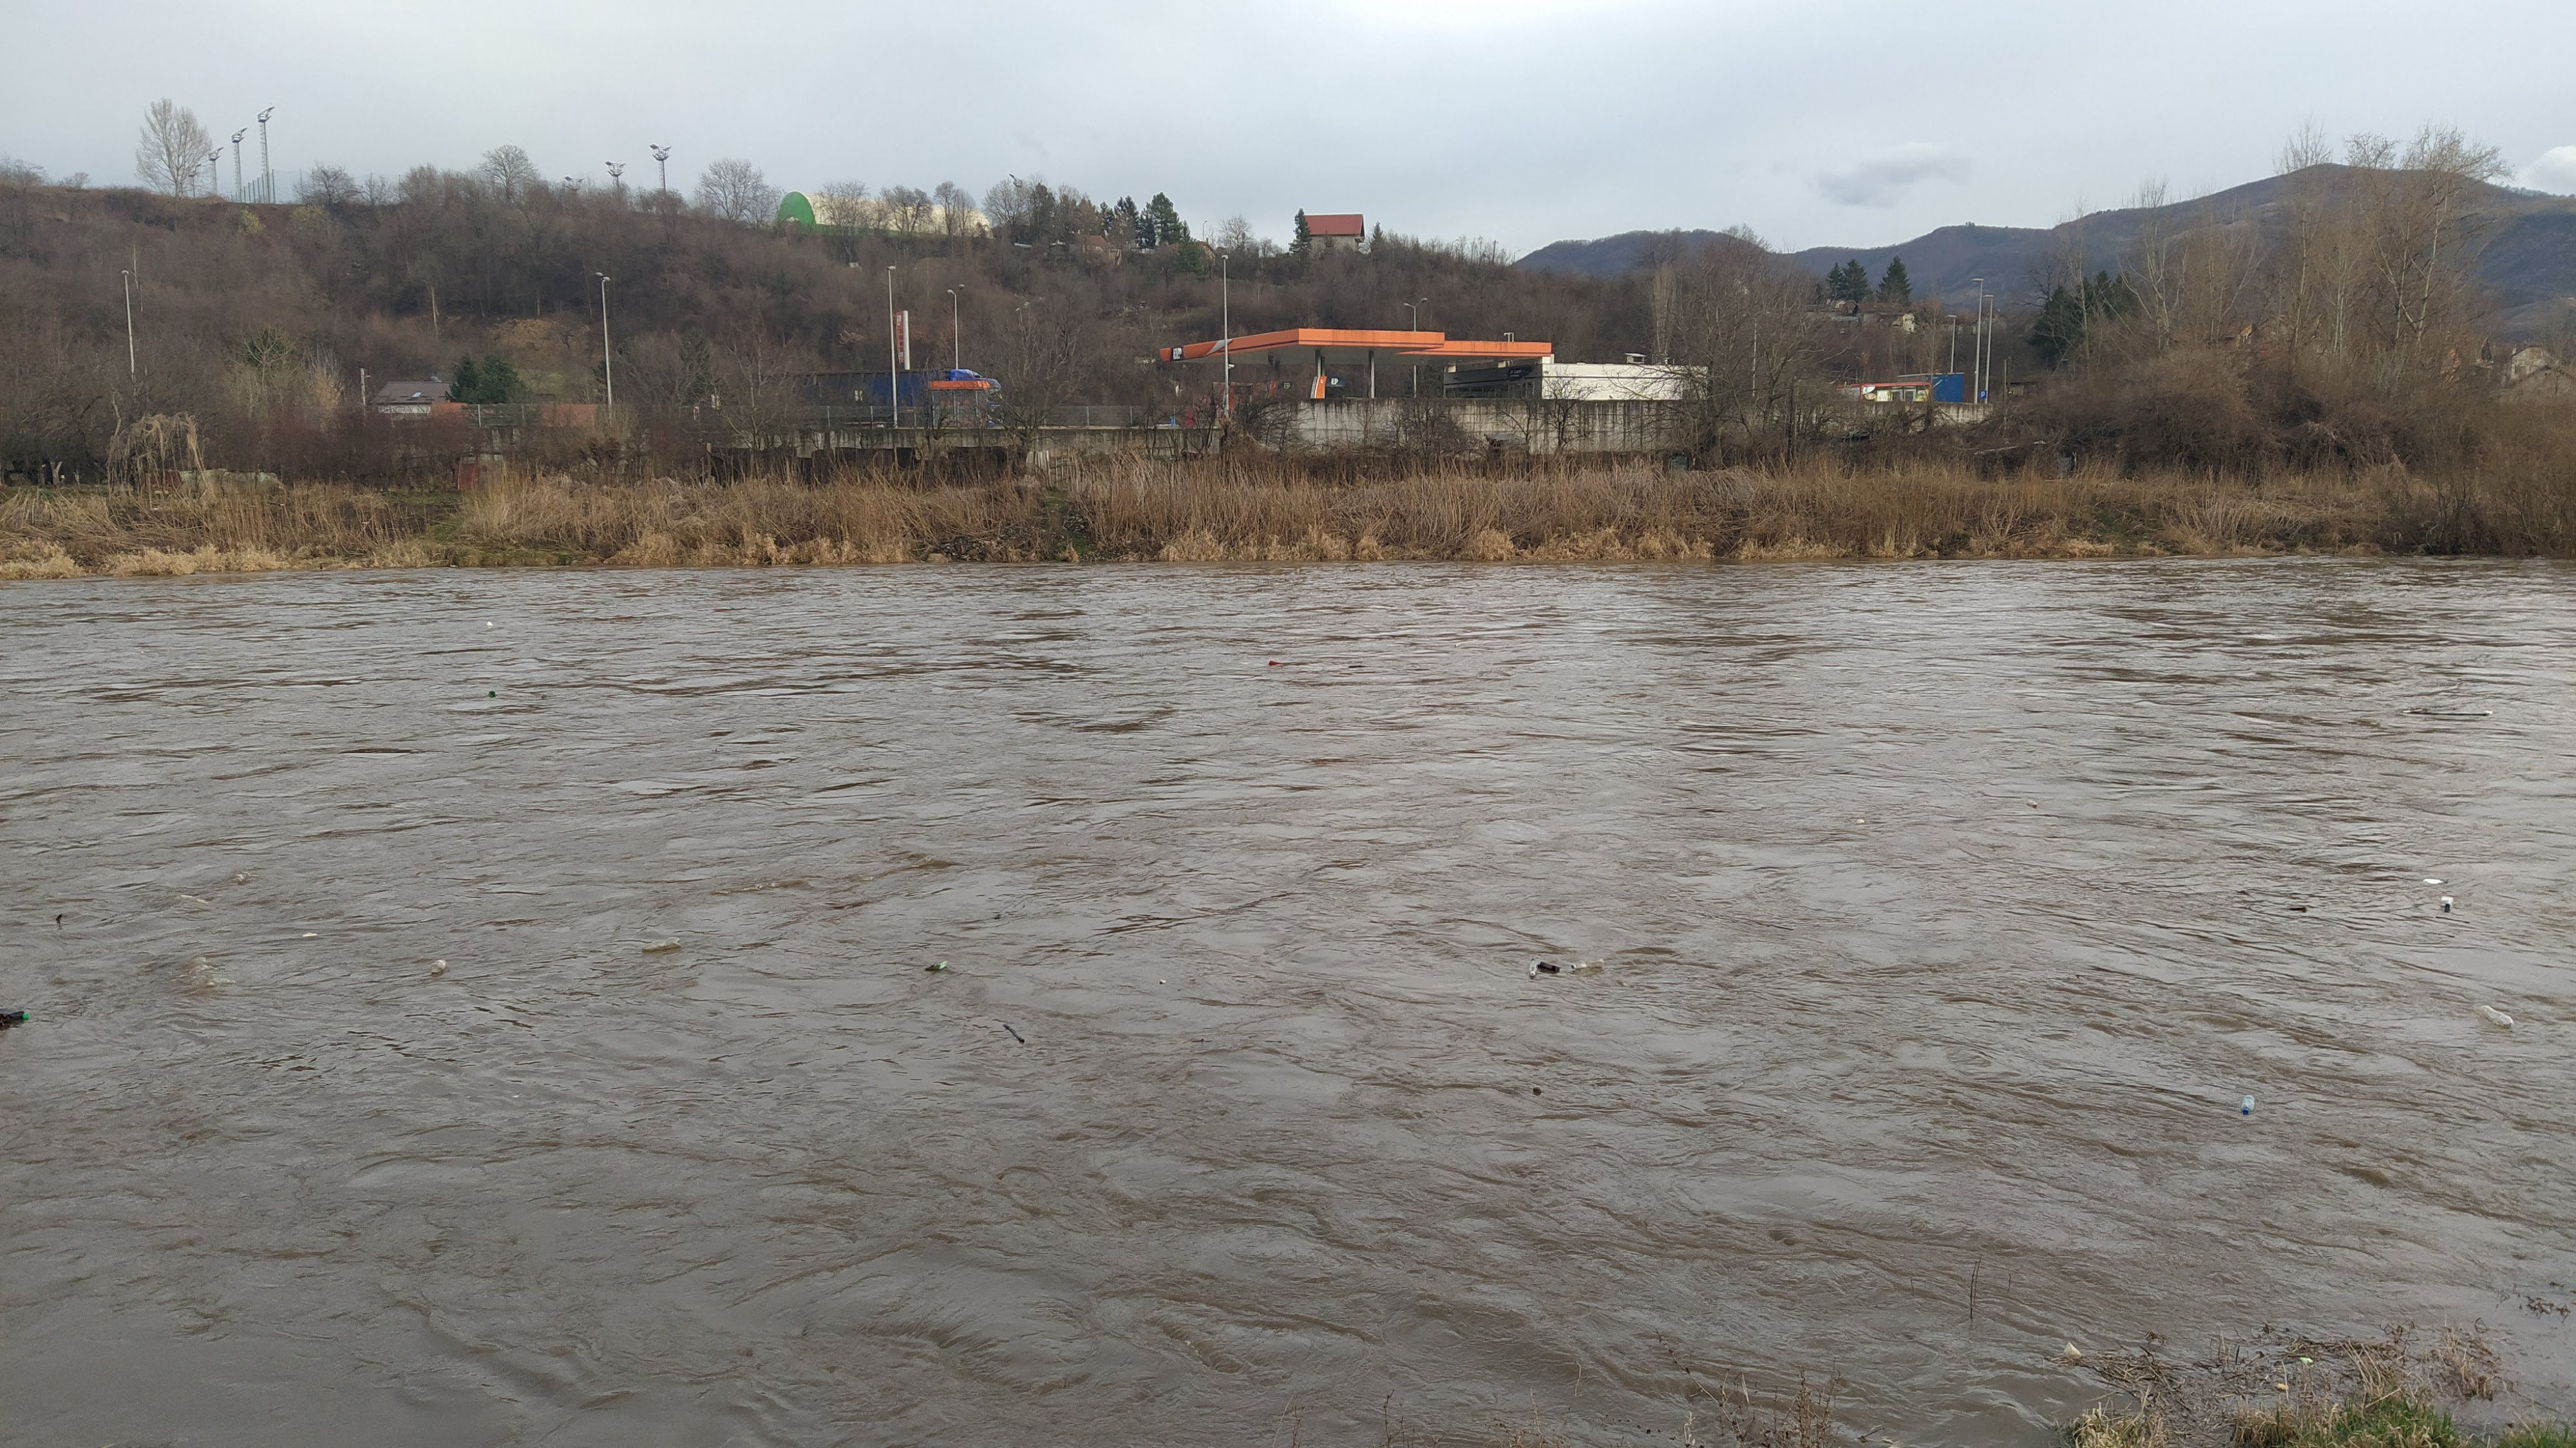Plastic Bottle: (2477, 1004, 2514, 1027), (640, 936, 679, 951), (1571, 958, 1605, 970), (0, 1007, 28, 1021), (2240, 1094, 2254, 1115), (2063, 1342, 2081, 1358), (430, 958, 446, 972), (925, 959, 947, 970), (1539, 961, 1559, 972), (1529, 959, 1537, 975), (2442, 896, 2452, 908), (2289, 906, 2305, 912), (2028, 800, 2036, 807), (1269, 660, 1277, 666), (488, 690, 495, 696), (1454, 643, 1458, 646), (487, 623, 490, 625)
